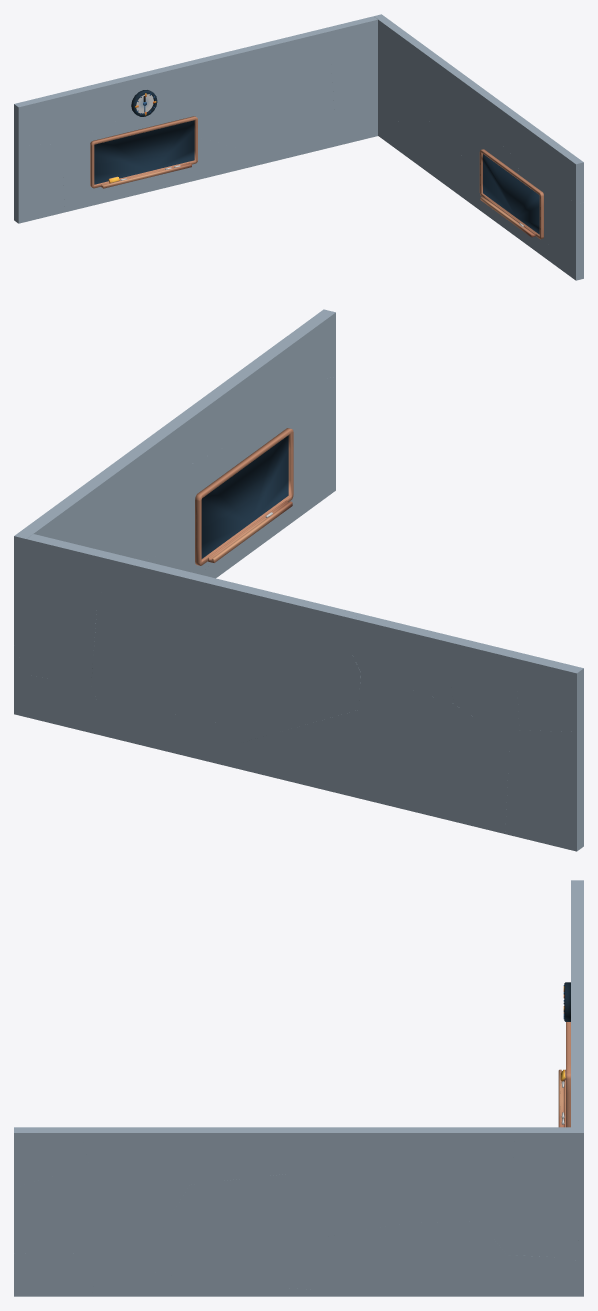
Rendered from walls&desk.fbx.
The picture shows the model from 3 angles, top to bottom: view 1: azimuth 30°, elevation 25°; view 2: azimuth 150°, elevation 25°; view 3: azimuth 270°, elevation 25°; orthographic projection. The views are drawn at different scales.
Visible parts, largest first — view 1: Chlakboard.001, walls_cell.023, walls_cell.024, walls_cell.012, walls_cell.015, walls_cell.004, walls_cell.013, Chlakboard.004, walls_cell.009, walls_cell.018, walls_cell.014, walls_cell.026 (+20 smaller); view 2: walls_cell.012, walls_cell.023, walls_cell.024, walls_cell.015, walls_cell.004, walls_cell.009, walls_cell.017, Chlakboard.004, walls_cell.014, walls_cell.001, walls_cell.026, walls_cell.018 (+15 smaller); view 3: walls_cell.010, walls_cell.013, walls_cell.004, walls_cell.014, walls_cell.016, walls_cell.008, walls_cell.020, walls_cell.011, walls_cell.007, walls_cell.005, walls_cell.031, walls_cell.029 (+5 smaller).
Boxes of the visible parts, x1,y1,x2,y2 form: Chlakboard.001: (90,116,197,188); walls_cell.023: (248,63,334,138); walls_cell.024: (159,87,251,149); walls_cell.012: (62,107,160,212); walls_cell.015: (14,142,64,223); walls_cell.004: (429,56,486,157); walls_cell.013: (400,108,469,202); Chlakboard.004: (479,149,543,239); walls_cell.009: (160,46,254,91); walls_cell.018: (253,28,332,82); walls_cell.014: (478,91,559,167); walls_cell.026: (331,51,377,115); walls_cell.012: (358,672,509,833); walls_cell.023: (91,601,227,724); walls_cell.024: (223,645,360,743); walls_cell.015: (505,727,583,851); walls_cell.004: (101,418,186,560); walls_cell.009: (211,580,359,651); walls_cell.017: (237,710,369,800); Chlakboard.004: (195,428,293,565); walls_cell.014: (175,336,300,466); walls_cell.001: (350,613,454,703); walls_cell.026: (26,587,96,686); walls_cell.018: (99,551,221,628); walls_cell.010: (138,1173,327,1289); walls_cell.013: (310,1221,512,1296); walls_cell.004: (288,1127,426,1236); walls_cell.014: (79,1127,289,1184); walls_cell.016: (72,1162,189,1277); walls_cell.008: (407,1127,514,1222); walls_cell.020: (479,1176,583,1257); walls_cell.011: (14,1166,86,1253); walls_cell.007: (14,1127,87,1187); walls_cell.005: (513,1127,583,1176); walls_cell.031: (14,1252,93,1296); walls_cell.029: (507,1255,583,1296).
Size of the model in its own units: 15.09 by 15.83 by 4.79.
